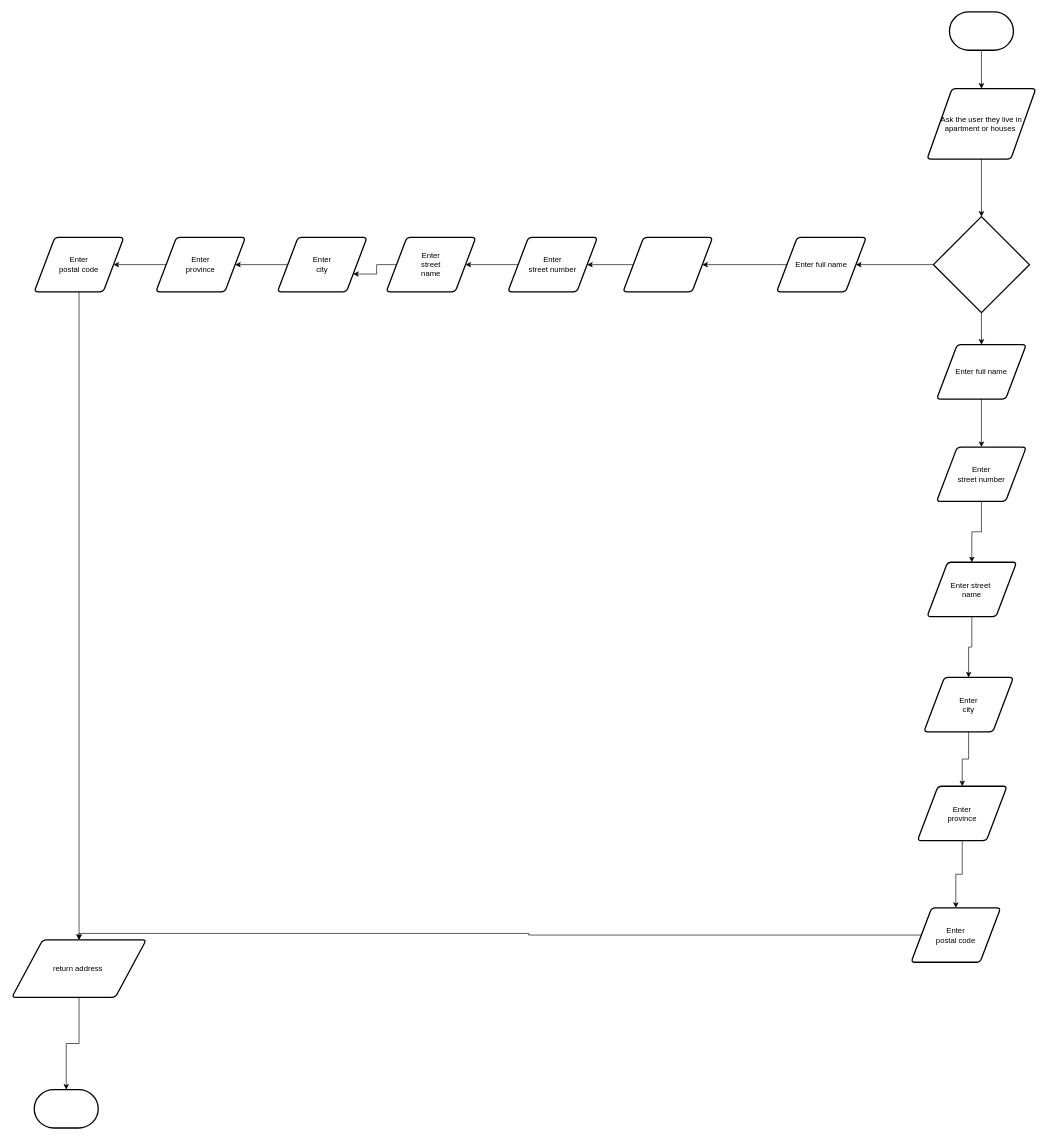
Some shapes in this 1047 by 1139 pixel diagram are drawn without their labels. Here are the shapes that lost their labels. From the top down, the centre of each, then its label:
At pixel 981 31: "Start".
At pixel 667 264: "Enter apartment number".
At pixel 981 264: "if apartment_number != None".
At pixel 66 1108: "Stop".
